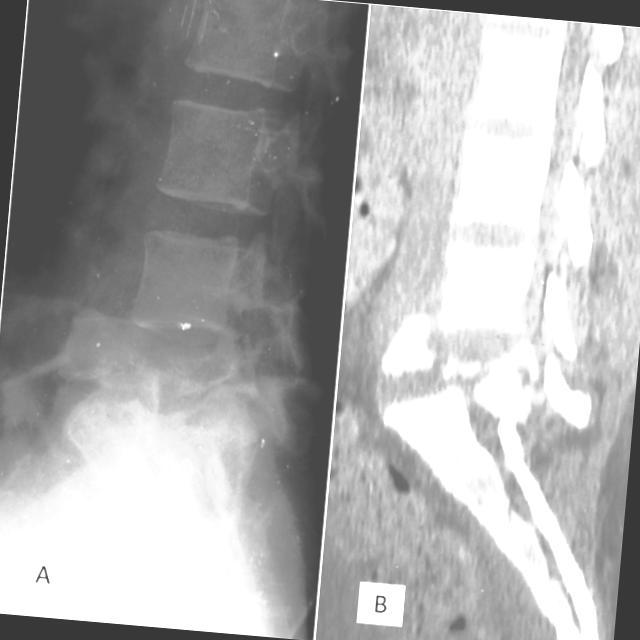Fracture Dislocation: (387, 327, 575, 429)
